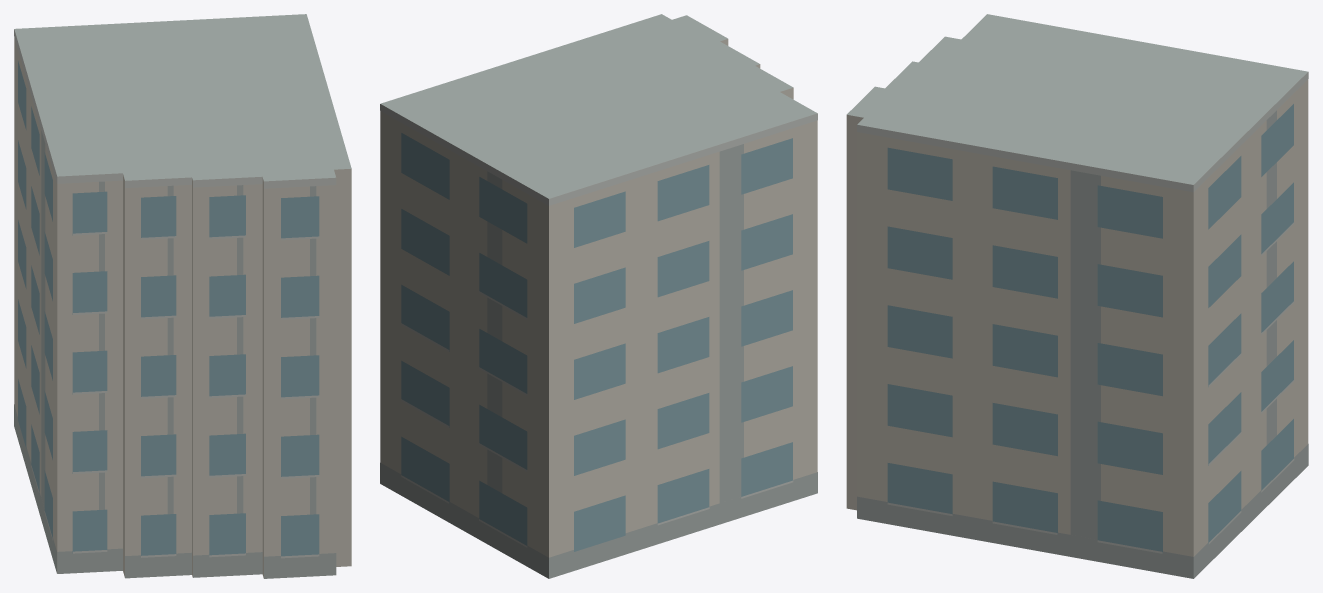
File: survey-upis-32743229.glb
The picture shows the model from 3 angles, left to right: view 1: azimuth 30°, elevation 25°; view 2: azimuth 150°, elevation 25°; view 3: azimuth 270°, elevation 25°; orthographic projection. The views are drawn at different scales.
Visible parts, largest first — view 1: survey-upis-32743229.tmp; view 2: survey-upis-32743229.tmp; view 3: survey-upis-32743229.tmp.
Boxes of the visible parts, box(x1,y1,x2,y2) form: survey-upis-32743229.tmp: box(14, 14, 351, 578); survey-upis-32743229.tmp: box(380, 14, 817, 578); survey-upis-32743229.tmp: box(846, 14, 1308, 578).
Bounding box in the file's own units: 12.25 × 13.15 × 13.98.
